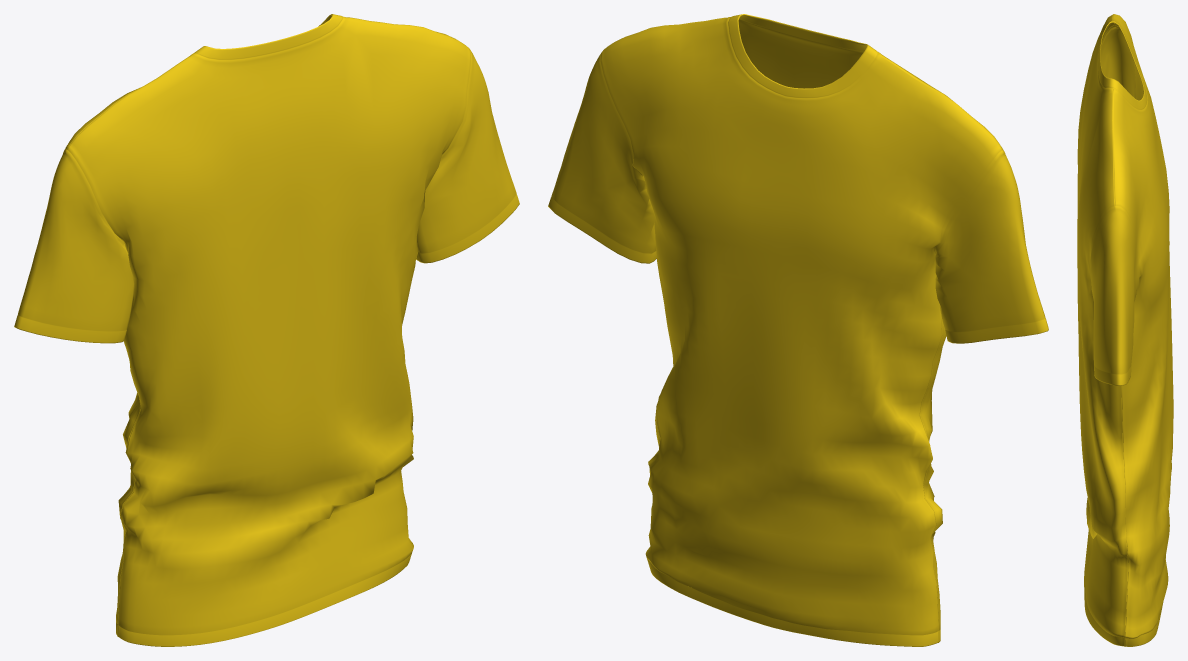
The model's file is T_Shirt_male141.fbx.
3 renders of one model, left to right at view 1: azimuth 30°, elevation 25°; view 2: azimuth 150°, elevation 25°; view 3: azimuth 270°, elevation 25°, orthographic. The views are drawn at different scales.
Visible parts, largest first — view 1: T_Shirt_male141; view 2: T_Shirt_male141; view 3: T_Shirt_male141.
Part boxes in pixels (x1=…): T_Shirt_male141: x1=14, y1=14, x2=519, y2=646; T_Shirt_male141: x1=548, y1=14, x2=1048, y2=646; T_Shirt_male141: x1=1077, y1=14, x2=1173, y2=646.
Bounding box in the file's own units: 19.1 × 21.2 × 3.39.
